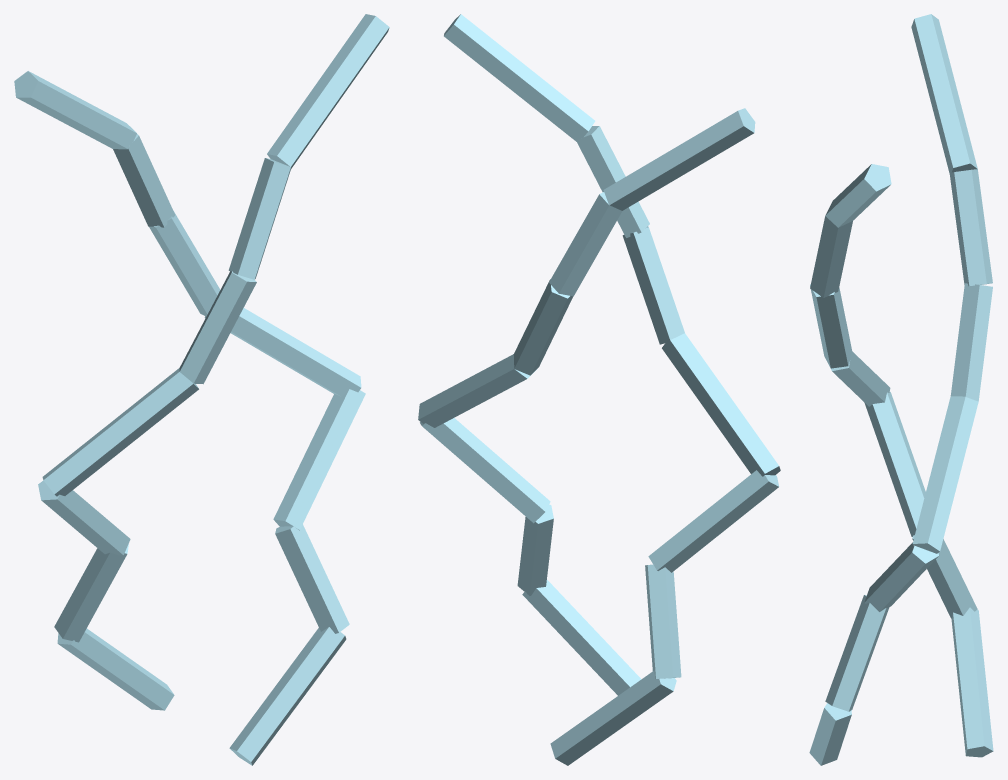
Rendered from unit_lightning.gltf.
3 views of the same model, side by side, from view 1: azimuth 30°, elevation 25°; view 2: azimuth 150°, elevation 25°; view 3: azimuth 270°, elevation 25° (orthographic). The views are drawn at different scales.
Size of the model in its own units: 0.9045 by 1.73 by 0.4294.
